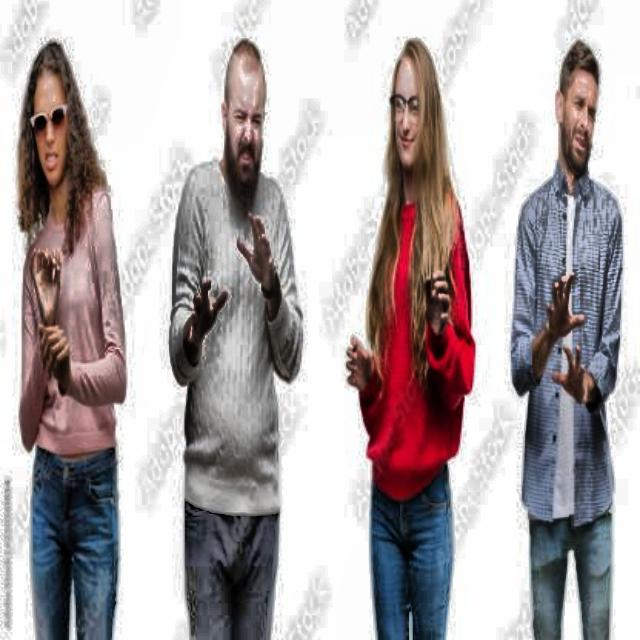disgust: (13, 22, 105, 249), (200, 24, 280, 236), (379, 32, 448, 213), (546, 32, 609, 192)
